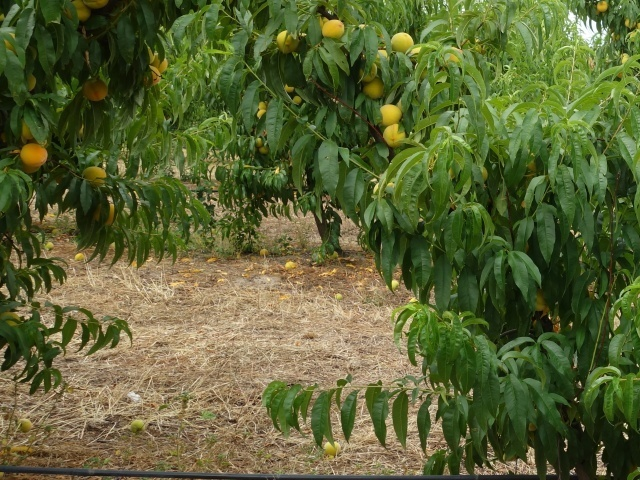peach: (379, 121, 410, 153), (17, 141, 50, 170), (372, 99, 402, 129), (78, 163, 110, 191), (318, 16, 347, 46), (79, 75, 110, 103), (274, 26, 302, 57), (386, 29, 416, 57), (14, 120, 41, 150), (91, 203, 121, 228), (359, 77, 387, 103), (355, 59, 381, 86), (1, 306, 27, 332), (141, 61, 163, 87), (149, 49, 172, 73)
